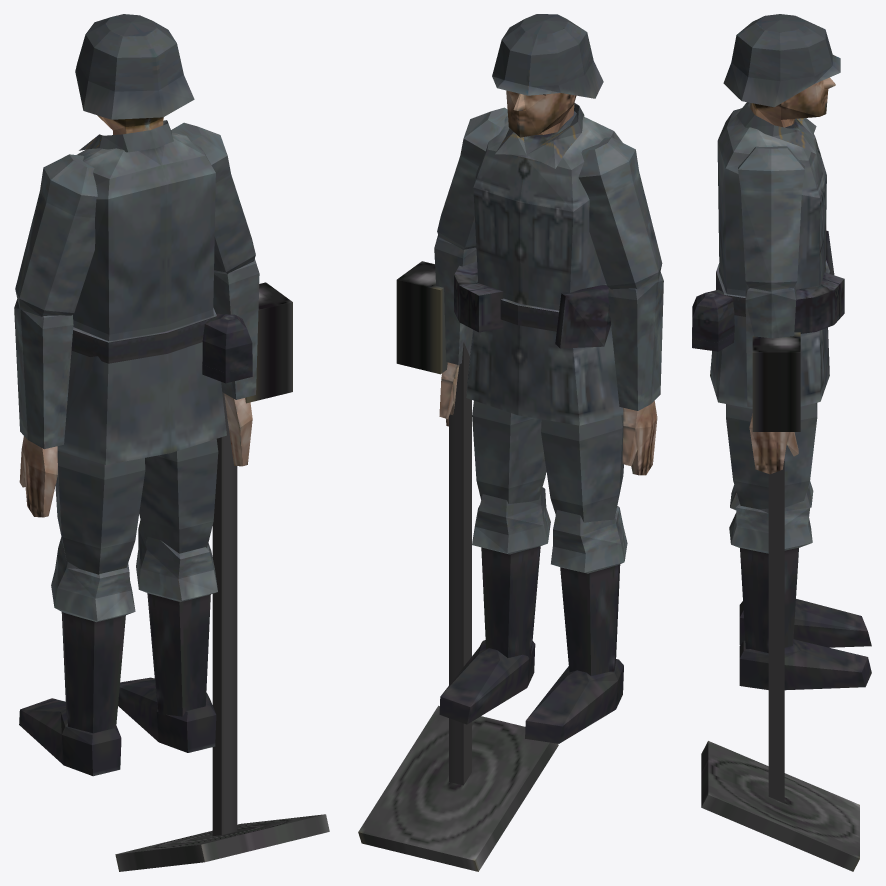
Rendered from vc_sapper.glb.
3 views of the same model, side by side, from view 1: azimuth 30°, elevation 25°; view 2: azimuth 150°, elevation 25°; view 3: azimuth 270°, elevation 25° (orthographic). The views are drawn at different scales.
Parts seen in each view (by area): view 1: torso, detector, head, rleg, lleg, luparm, lloarm, lthigh, rthigh, rloarm, lfoot, ruparm (+1 smaller); view 2: torso, detector, head, lleg, rleg, luparm, lloarm, lthigh, rthigh, lfoot, rfoot, ruparm (+1 smaller); view 3: detector, torso, head, ruparm, rleg, rthigh, rfoot, rloarm, lfoot.
Boxes of the visible parts, x1,y1,x2,y2 form: torso: (57,120,252,464); detector: (115,282,329,871); head: (75,14,194,134); rleg: (136,520,217,716); lleg: (51,537,135,733); luparm: (15,154,97,316); lloarm: (14,299,73,517); lthigh: (55,451,145,574); rthigh: (139,439,218,553); rloarm: (213,258,259,466); lfoot: (19,698,121,776); ruparm: (171,122,255,274); torso: (454,103,623,425); detector: (358,261,558,871); head: (492,14,603,137); lleg: (551,506,627,675); rleg: (472,487,550,658); luparm: (578,137,662,289); lloarm: (608,272,663,475); lthigh: (541,415,623,522); rthigh: (472,400,546,503); lfoot: (525,659,623,743); rfoot: (439,640,535,724); ruparm: (437,107,507,249); detector: (701,332,859,871); torso: (692,102,844,408); head: (723,14,840,127); ruparm: (738,146,804,291); rleg: (729,488,812,652); rthigh: (726,402,817,509); rfoot: (739,639,871,690); rloarm: (745,284,798,474); lfoot: (739,599,871,647).
Size of the model in its own units: 0.5756 by 1.8 by 0.3735.
Materials: 1 (1 with a texture image).
